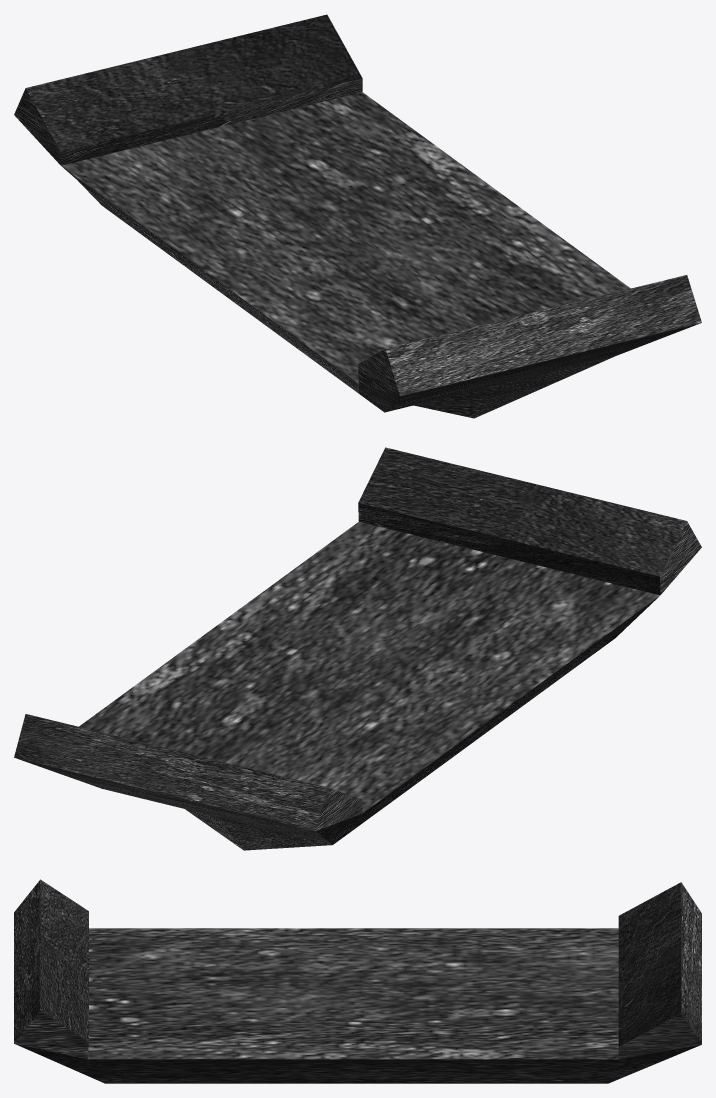
File: PLATAFORMA_1.fbx
3 views of the same model, one above another, from view 1: azimuth 30°, elevation 25°; view 2: azimuth 150°, elevation 25°; view 3: azimuth 270°, elevation 25° (orthographic). The views are drawn at different scales.
Visible parts, largest first — view 1: Cube; view 2: Cube; view 3: Cube.
Part boxes in pixels (x1,y1,x2,y2): Cube: [14, 14, 701, 418]; Cube: [14, 447, 701, 850]; Cube: [14, 879, 701, 1083].
Size of the model in its own units: 438 by 211 by 972.
Materials: 1 (1 with a texture image).
